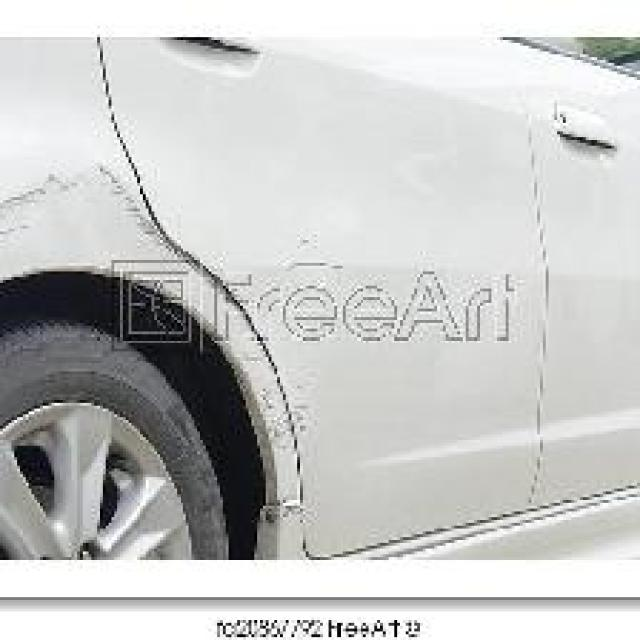door_scratch_moderate: (14, 160, 137, 260)
